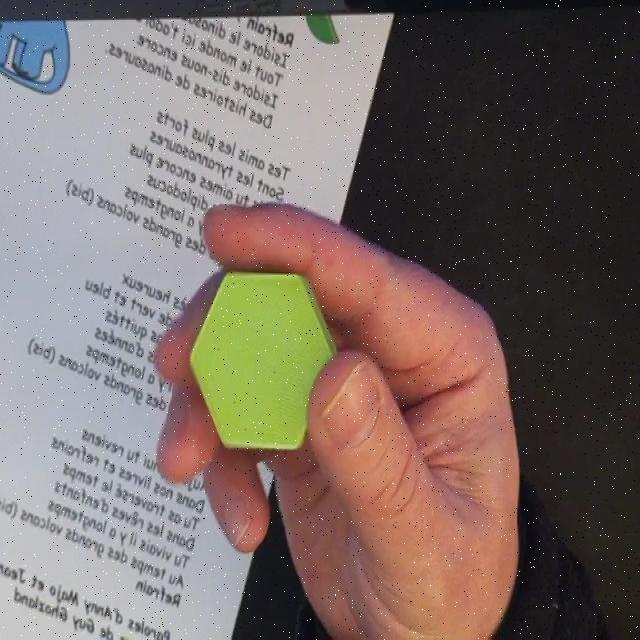hexagon: (187, 270, 339, 456)
